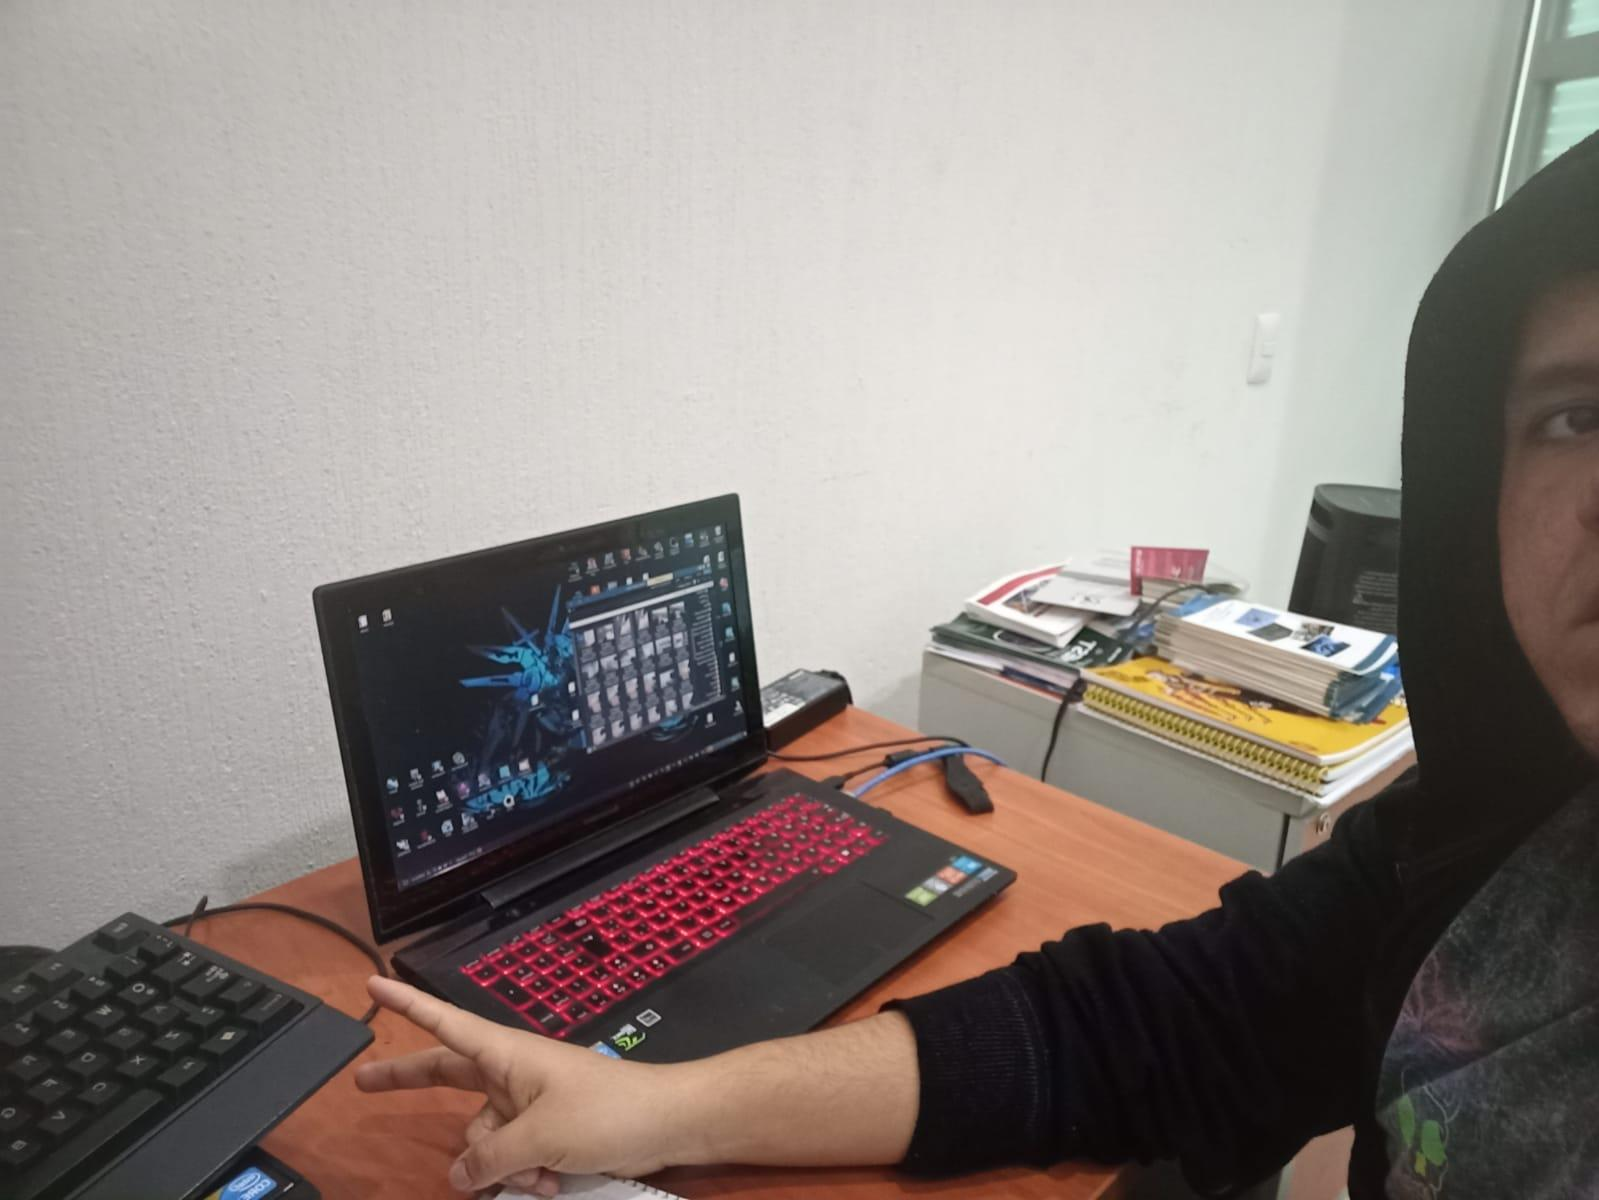Scissor: (335, 958, 684, 1200)
